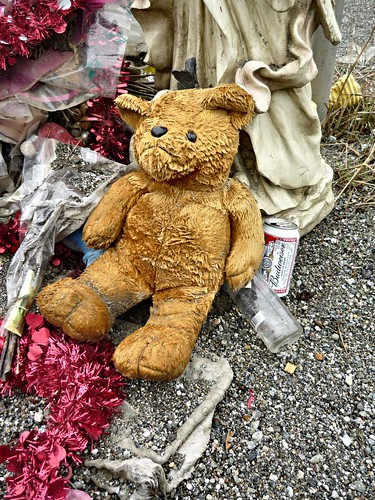trash: (1, 1, 375, 500)
